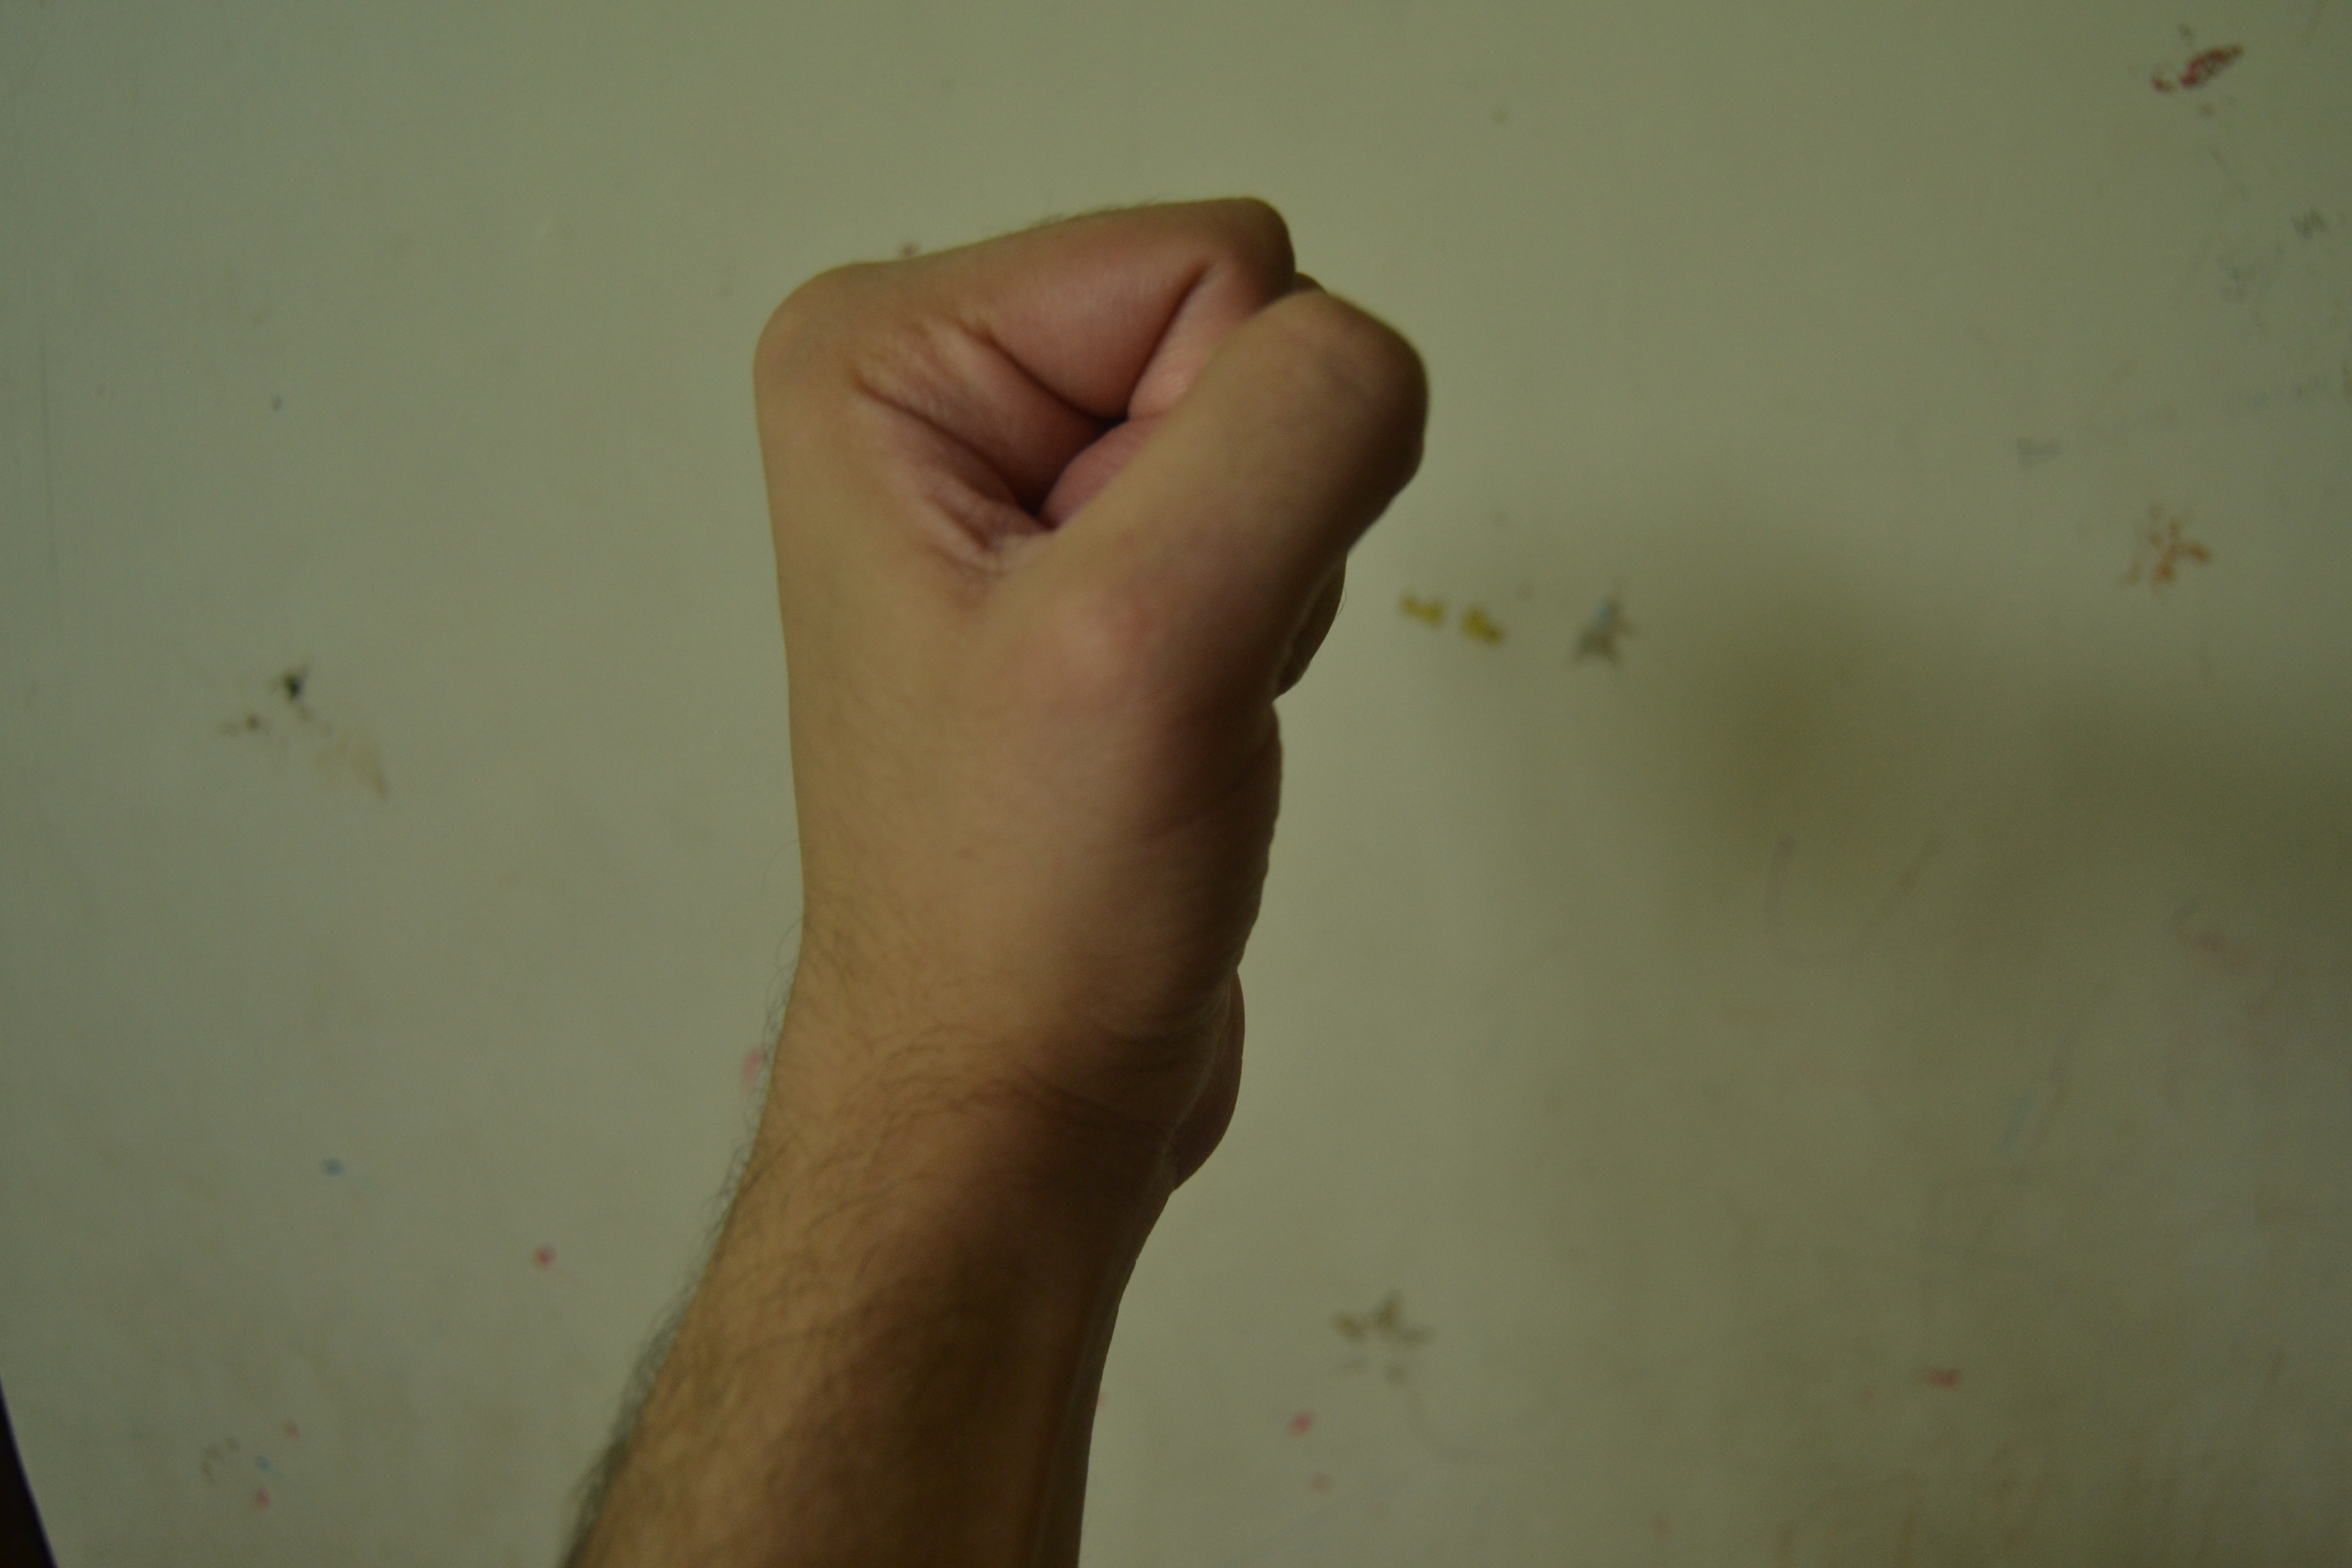click: (716, 150, 1505, 1367)
